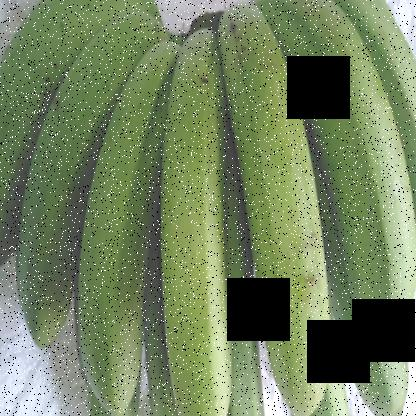freshunripe: (12, 1, 157, 358), (268, 1, 414, 346), (223, 1, 343, 415), (78, 21, 179, 412), (161, 1, 229, 415), (339, 302, 415, 415)
